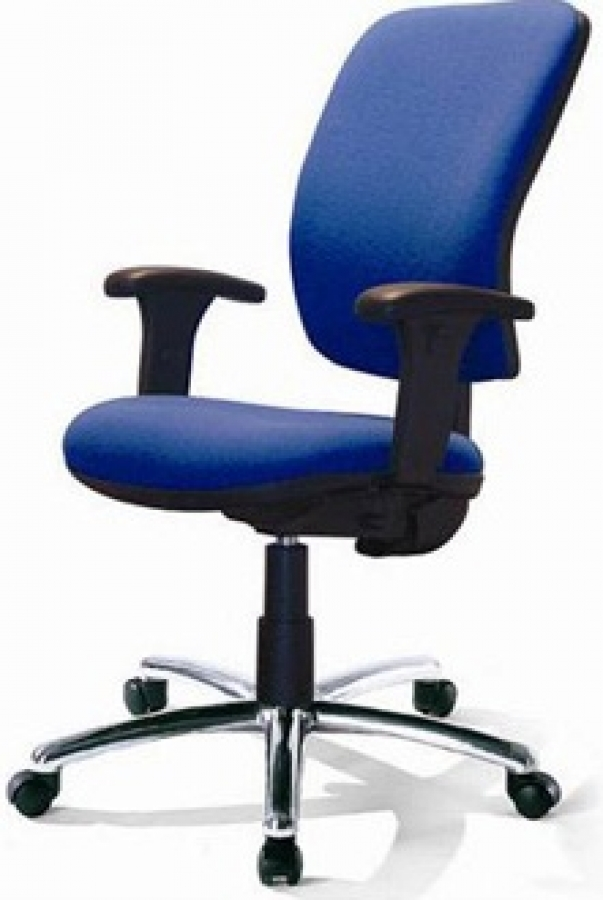chairs: (9, 10, 603, 891)
